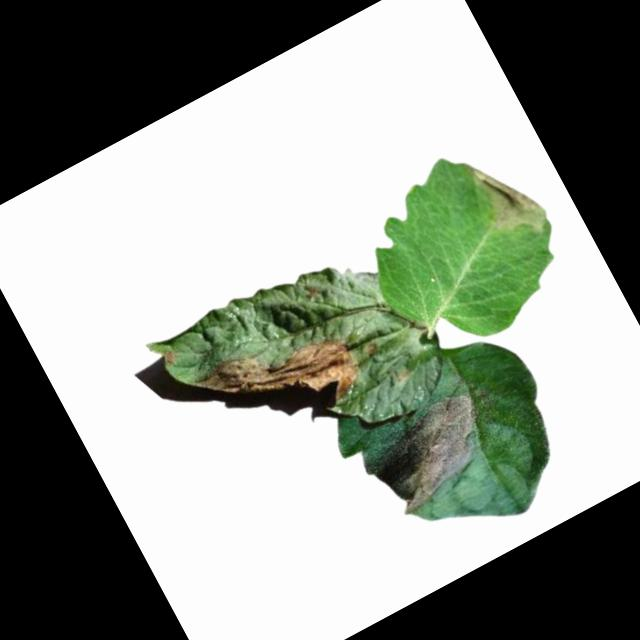Late_blight: (193, 303, 372, 458), (353, 382, 512, 522), (461, 145, 557, 252), (162, 349, 182, 368)
